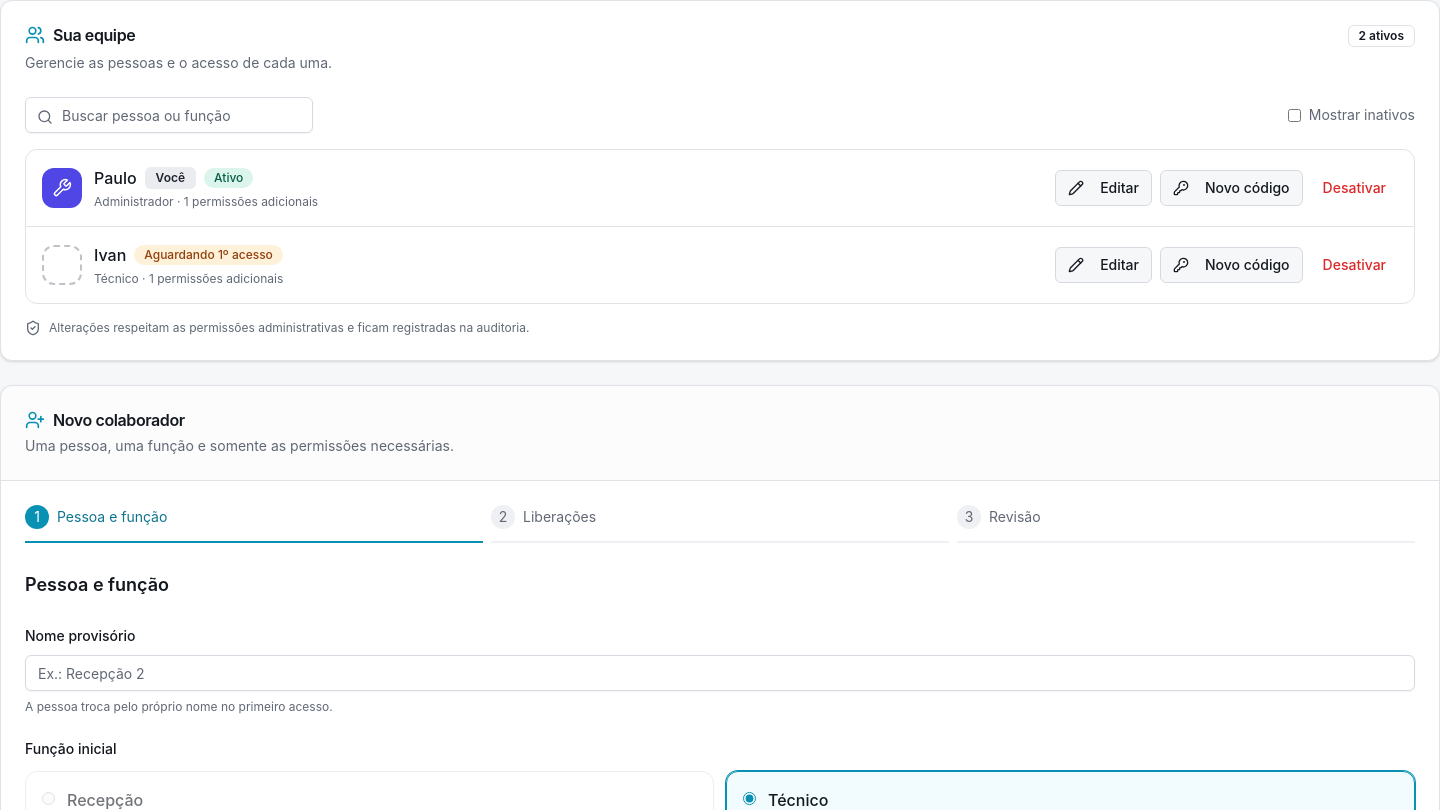
gestão da equipe › gera novo código só com o PIN do administrador e mostra o código
Expected: the text "Ivan" is shown, [94, 243, 126, 267]
Click the button "Novo código" in the row of "Aguardando 1º acesso". click: (1231, 265)
box: [1160, 247, 1303, 283]
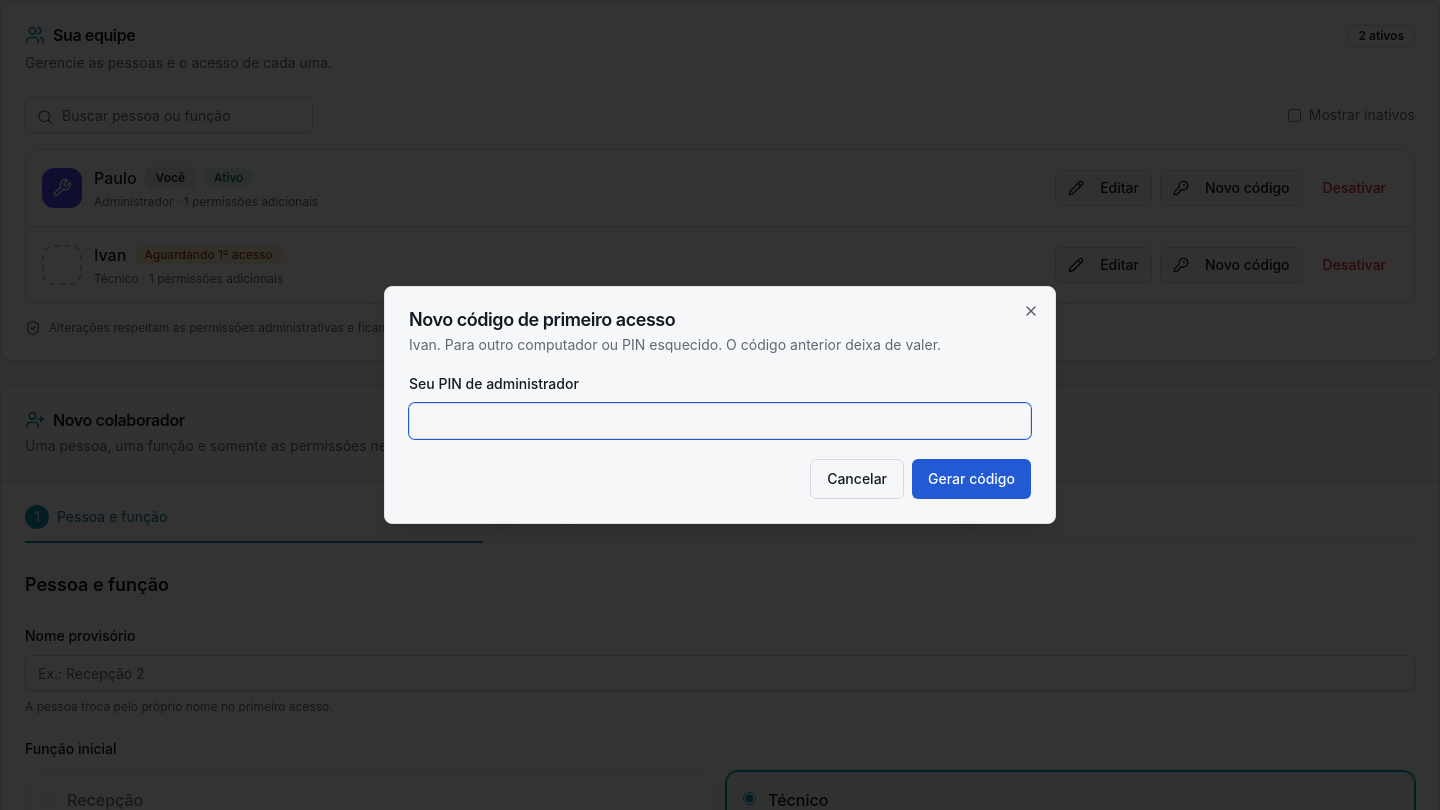
Click the button "Gerar código". click: (972, 479)
box: [912, 459, 1031, 499]
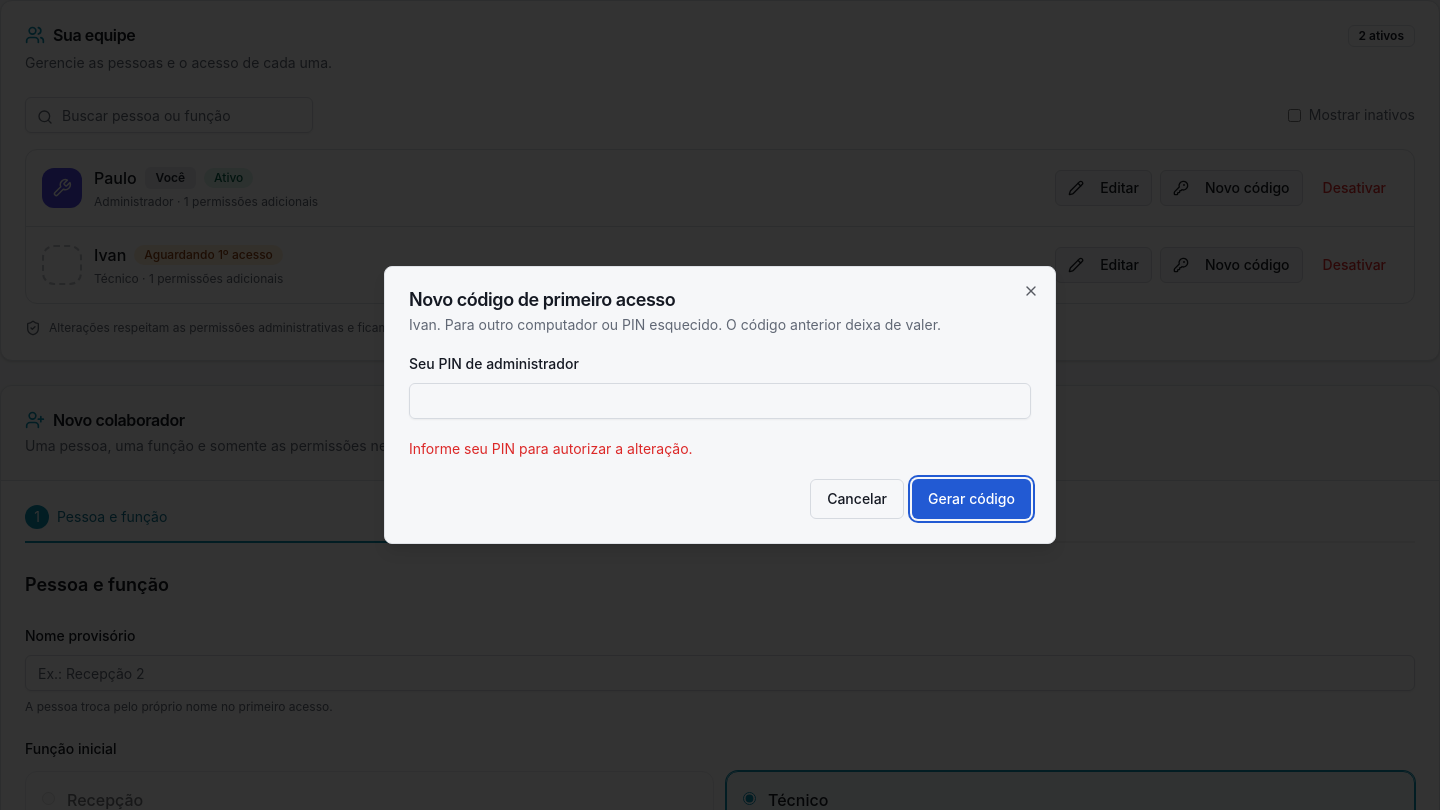
Type "1234" into the password field labelled "Seu PIN de administrador". click: (720, 401)
box: [409, 383, 1031, 419]
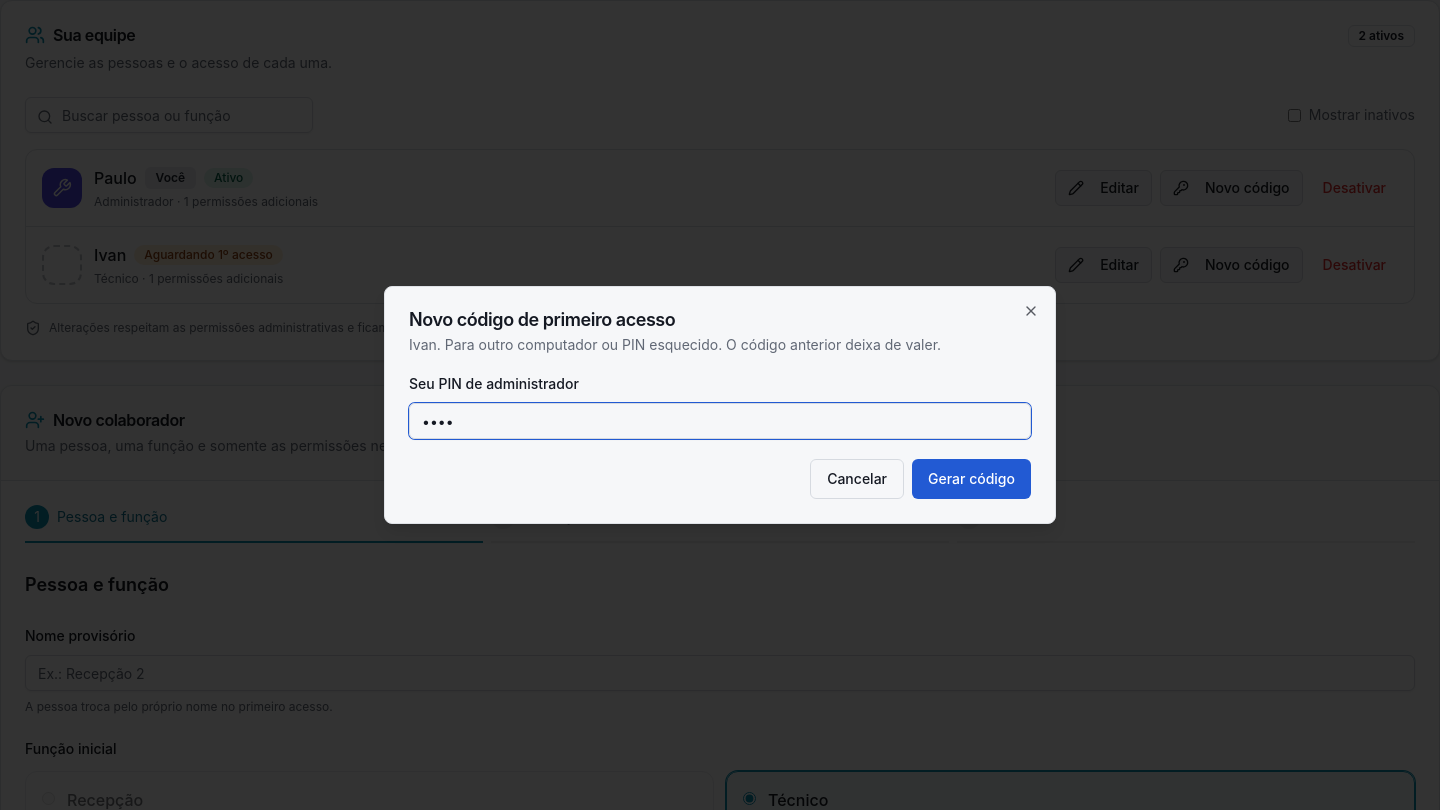
Click the button "Gerar código". click: (972, 479)
box: [912, 459, 1031, 499]
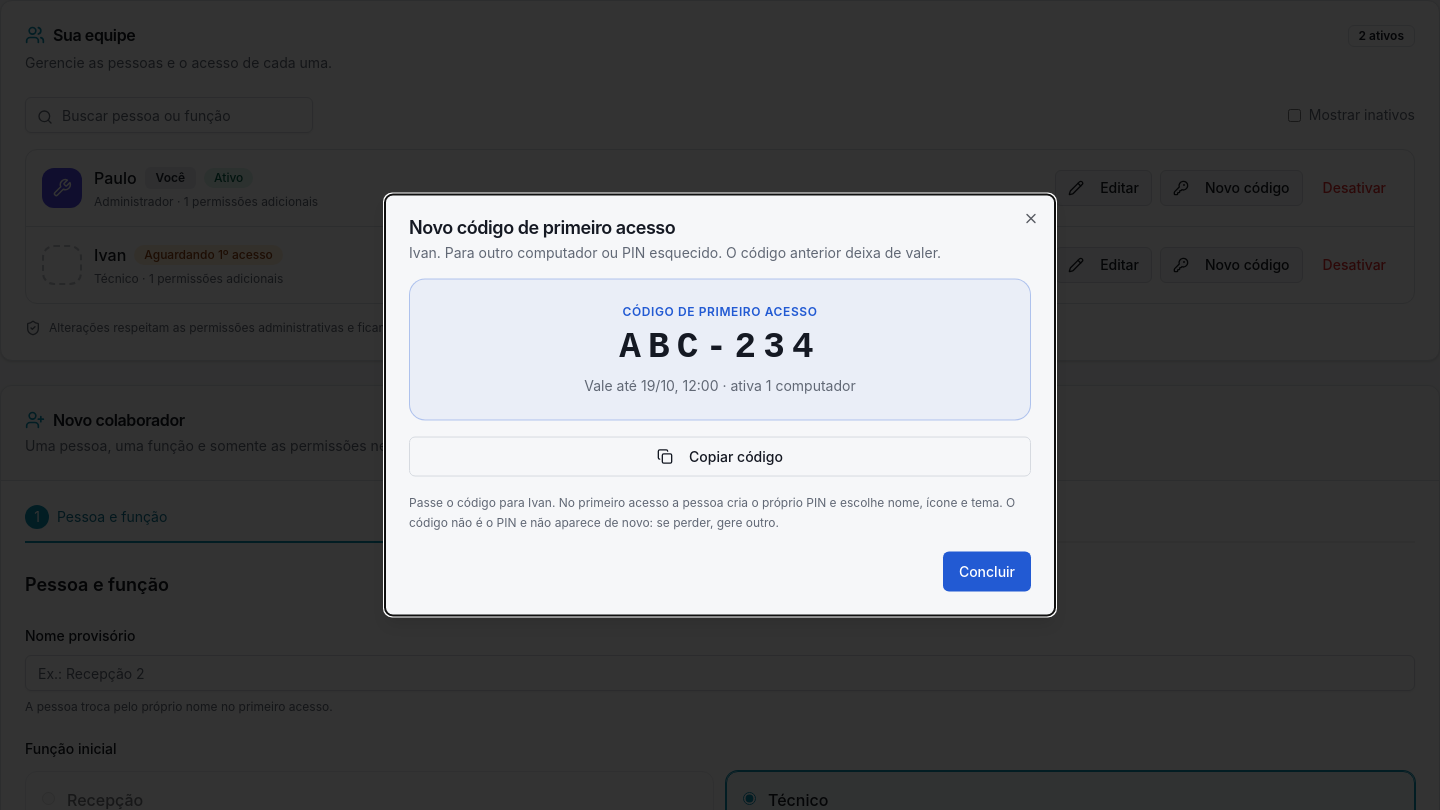
Expected: the text "ABC-234" is shown, [619, 328, 821, 368]
